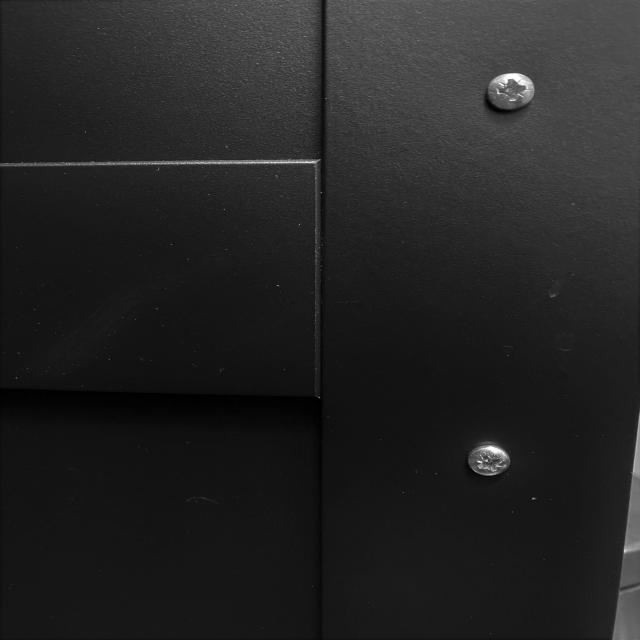PhillipsScrewHead: (486, 72, 536, 110), (467, 445, 512, 476)
